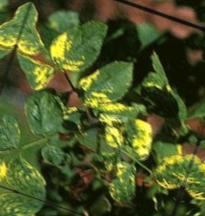Tomato leaf mosaic virus: (50, 7, 110, 77), (75, 46, 137, 111), (17, 86, 71, 142), (1, 153, 59, 201), (102, 155, 149, 209), (0, 109, 30, 160), (37, 139, 76, 170)
